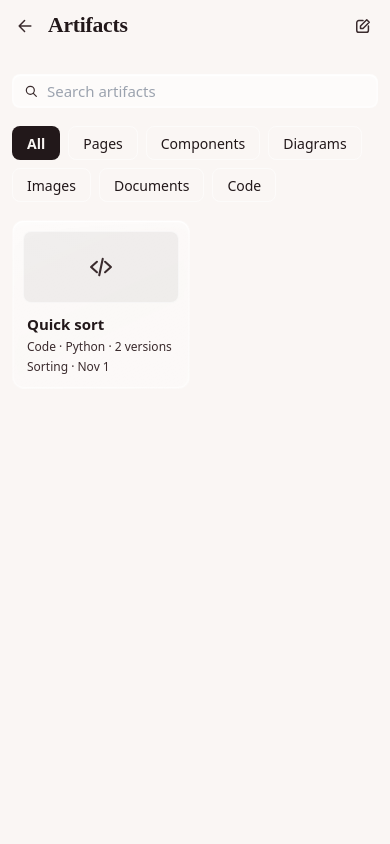
Test: <ArtifactsGallery /> › a card opens the panel on the newest version; versions step; Open chat goes to that reply
Later steps or results of the test are not shown.
Click the button "Quick sort Code · Python · 2 versions Sorting · Nov 1" at (101, 304), box [12,220,190,388]
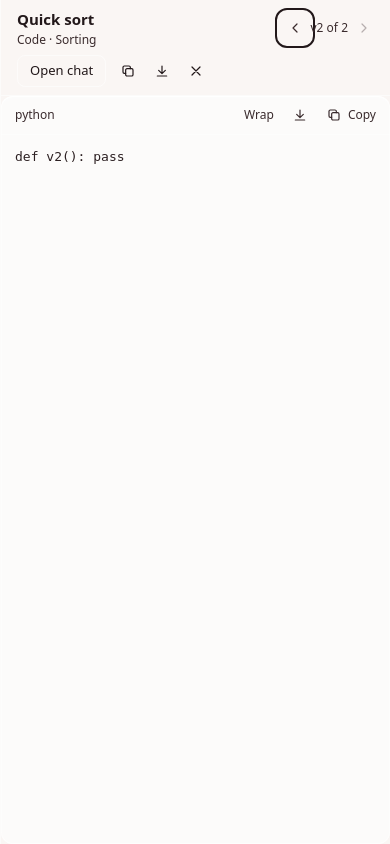
Now the text "v2 of 2" is shown, box [310,19,348,37]
Now the dialog named "Artifact: Quick sort" shows "def v2(): pass", box [15,148,125,164]
Now the dialog named "Artifact: Quick sort" shows "Sorting", box [46,30,96,48]
Click the button named "Previous version" at (294, 28), box [278,12,310,44]
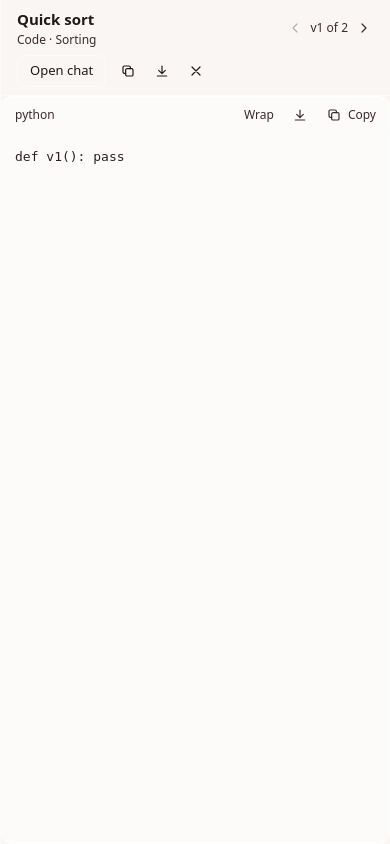
Now the text "v1 of 2" is shown, box [310,19,348,37]
Now the dialog shows "def v1(): pass", box [15,148,125,164]
